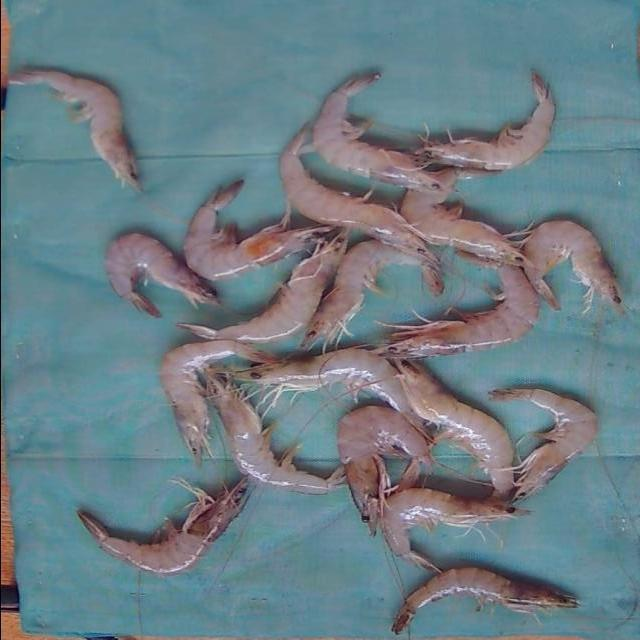shrimp: (278, 123, 437, 267), (229, 348, 434, 443), (177, 233, 345, 343), (312, 72, 460, 194), (375, 249, 539, 358), (204, 372, 345, 495), (75, 480, 245, 576), (395, 361, 514, 498), (6, 69, 140, 190), (301, 240, 443, 350), (182, 180, 334, 281), (158, 340, 274, 464), (422, 72, 555, 170), (391, 569, 578, 636), (381, 489, 530, 573), (400, 166, 524, 265), (336, 407, 431, 536), (489, 389, 598, 500), (103, 233, 219, 318), (523, 220, 624, 315)
